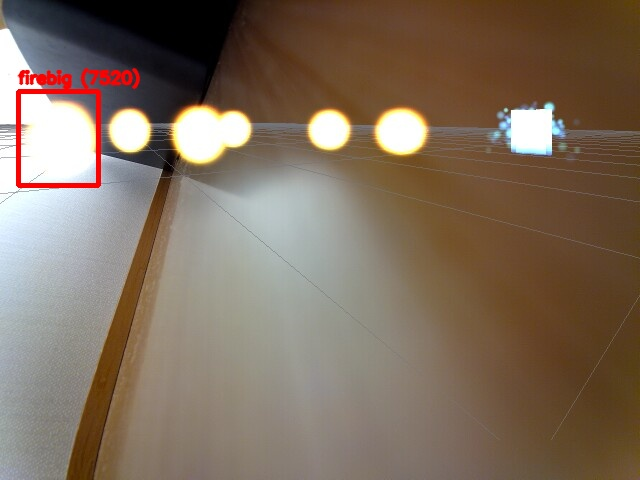firebig: (18, 91, 98, 185)
